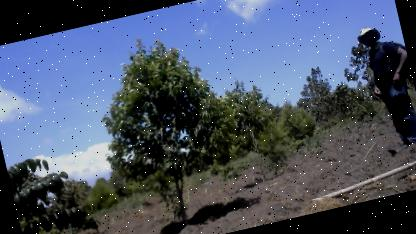person: (349, 17, 416, 158)
tree: (80, 20, 262, 234), (5, 144, 104, 234)
